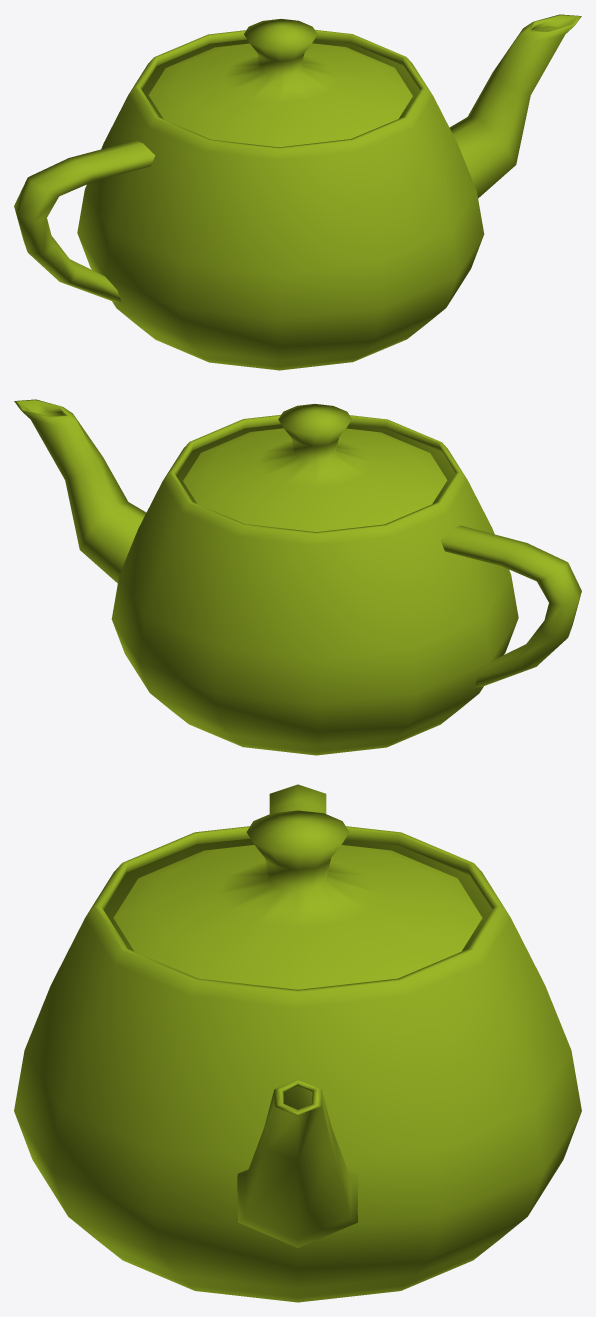
File: Kopi av test.dae
3 renders of one model, top to bottom at view 1: azimuth 30°, elevation 25°; view 2: azimuth 150°, elevation 25°; view 3: azimuth 270°, elevation 25°, orthographic. The views are drawn at different scales.
Parts seen in each view (by area): view 1: Teapot01; view 2: Teapot01; view 3: Teapot01.
Part boxes in pixels (x1,y1,x2,y2): Teapot01: (14,14,581,370); Teapot01: (14,399,581,755); Teapot01: (14,784,581,1302).
Bounding box in the file's own units: 96.79 × 60.22 × 47.42.
